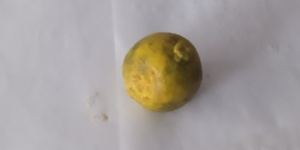BAD: (122, 33, 204, 110)
